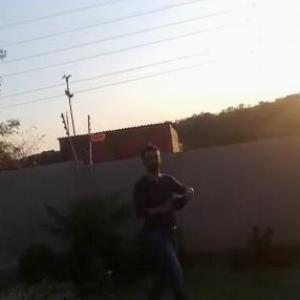follow: (127, 138, 200, 299)
